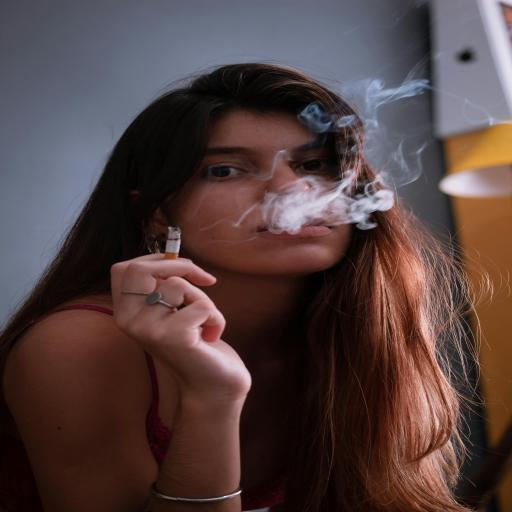terdeteksi pegang rokok: (89, 199, 247, 350)
